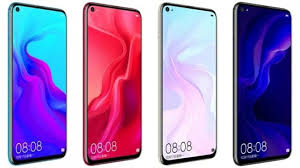huawei: (4, 2, 70, 165), (79, 2, 145, 165), (229, 2, 295, 165), (154, 1, 220, 163)
